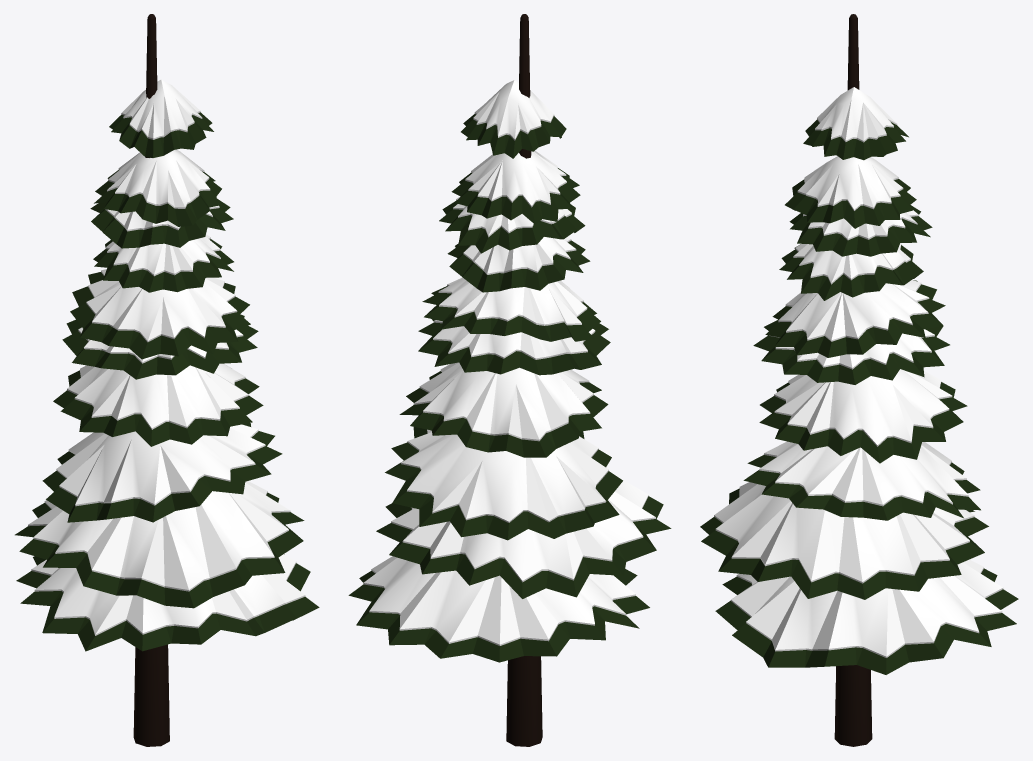
Rendered from s_tree_007.FBX.
3 views of the same model, side by side, from view 1: azimuth 30°, elevation 25°; view 2: azimuth 150°, elevation 25°; view 3: azimuth 270°, elevation 25° (orthographic).
Parts seen in each view (by area): view 1: s_tree_leaves_007 (×2); view 2: s_tree_leaves_007 (×2); view 3: s_tree_leaves_007 (×2).
Part boxes in pixels (box(x1,y1,x2,y2)): s_tree_leaves_007 (×2): box(15, 14, 319, 746); s_tree_leaves_007 (×2): box(348, 14, 671, 746); s_tree_leaves_007 (×2): box(700, 14, 1018, 746).
Size of the model in its own units: 1.66 by 4.26 by 1.7.
